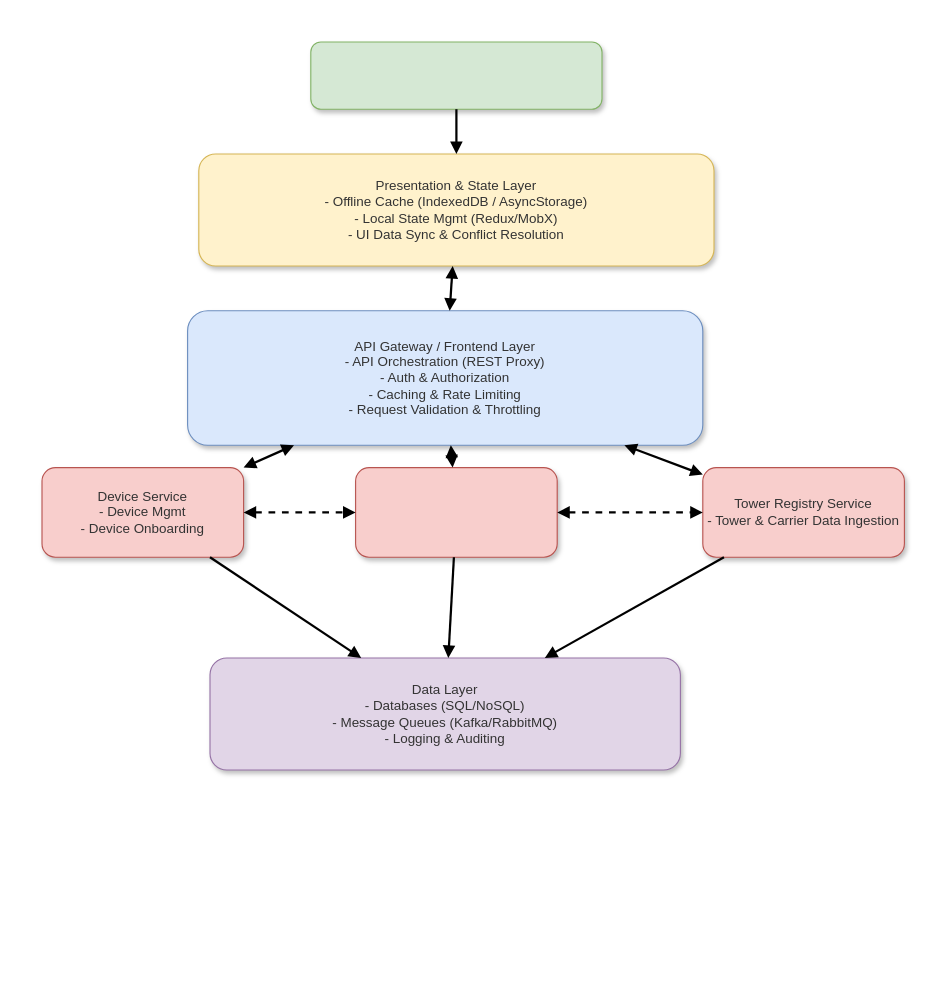
This 931x1001 diagram has some shape labels left out. Each missing label, with the centre of its shape:
"Policy Engine - Rule Evaluation - Policy Enforcement" belongs at [457,513].
"User Interface (React Web & Mobile)" belongs at [457,76].
